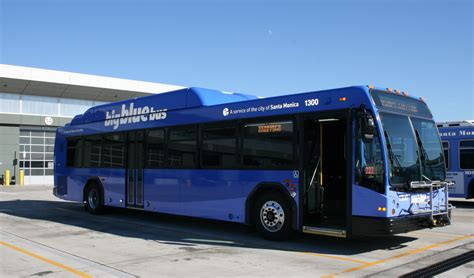bus: (56, 86, 446, 235)
